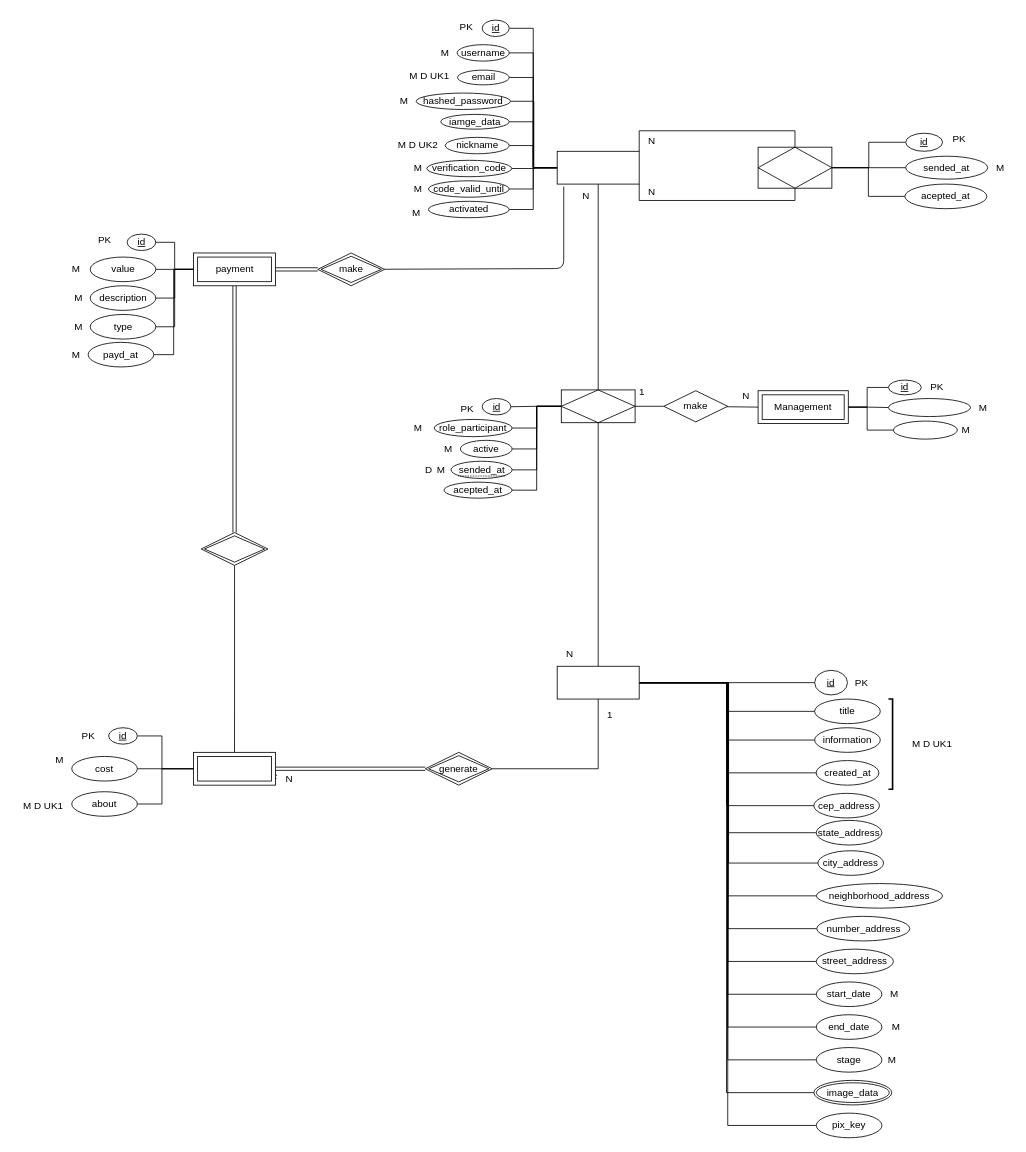
Some shapes in this 1026 by 1152 pixel diagram are drawn without their labels. Here are the shapes that lost their labels. From the top down, the centre of each, then its label:
[597,167]: Account
[794,167]: friend
[597,406]: Participate
[929,407]: managment_at
[925,429]: type_action
[234,548]: has
[597,682]: Meetup
[234,768]: Expenses
